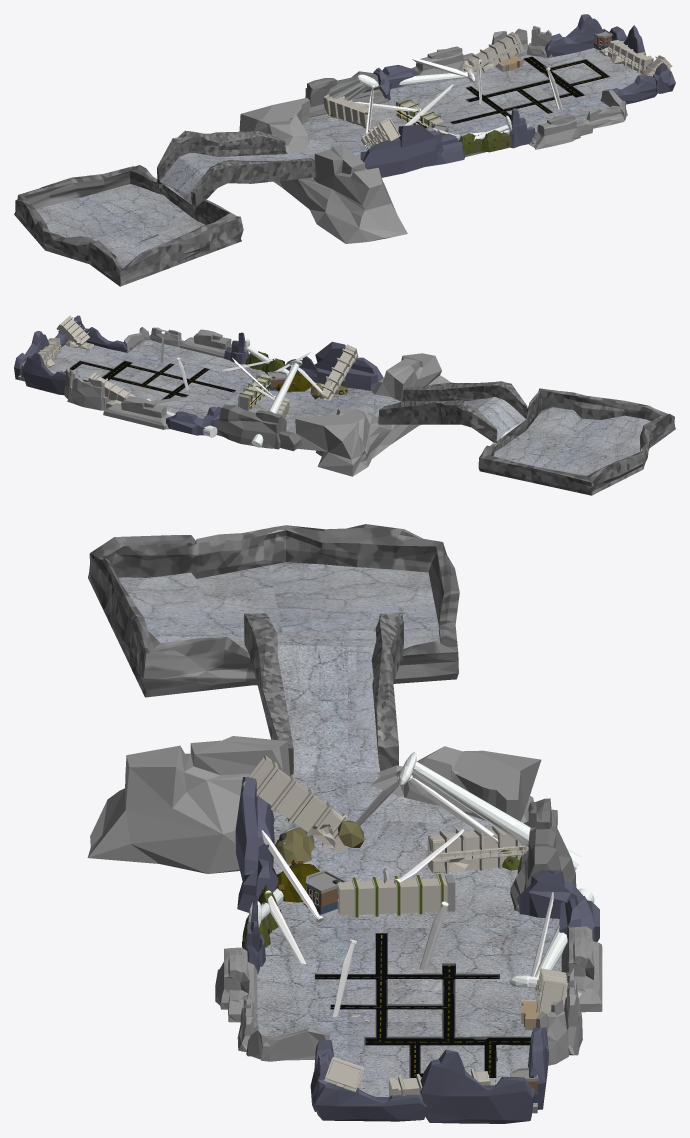
The model's file is Wil_ThirdLevelTextured (1).fbx.
3 renders of one model, top to bottom at view 1: azimuth 30°, elevation 25°; view 2: azimuth 150°, elevation 25°; view 3: azimuth 270°, elevation 25°, orthographic. The views are drawn at different scales.
Parts seen in each view (by area): view 1: City Base; view 2: City Base; view 3: City Base.
Part boxes in pixels (bbox=[...]): City Base: bbox=[14, 14, 675, 286]; City Base: bbox=[14, 315, 675, 495]; City Base: bbox=[87, 524, 602, 1123].
Size of the model in its own units: 270111 by 33113 by 105265.
Materials: 112 (1 with a texture image).
